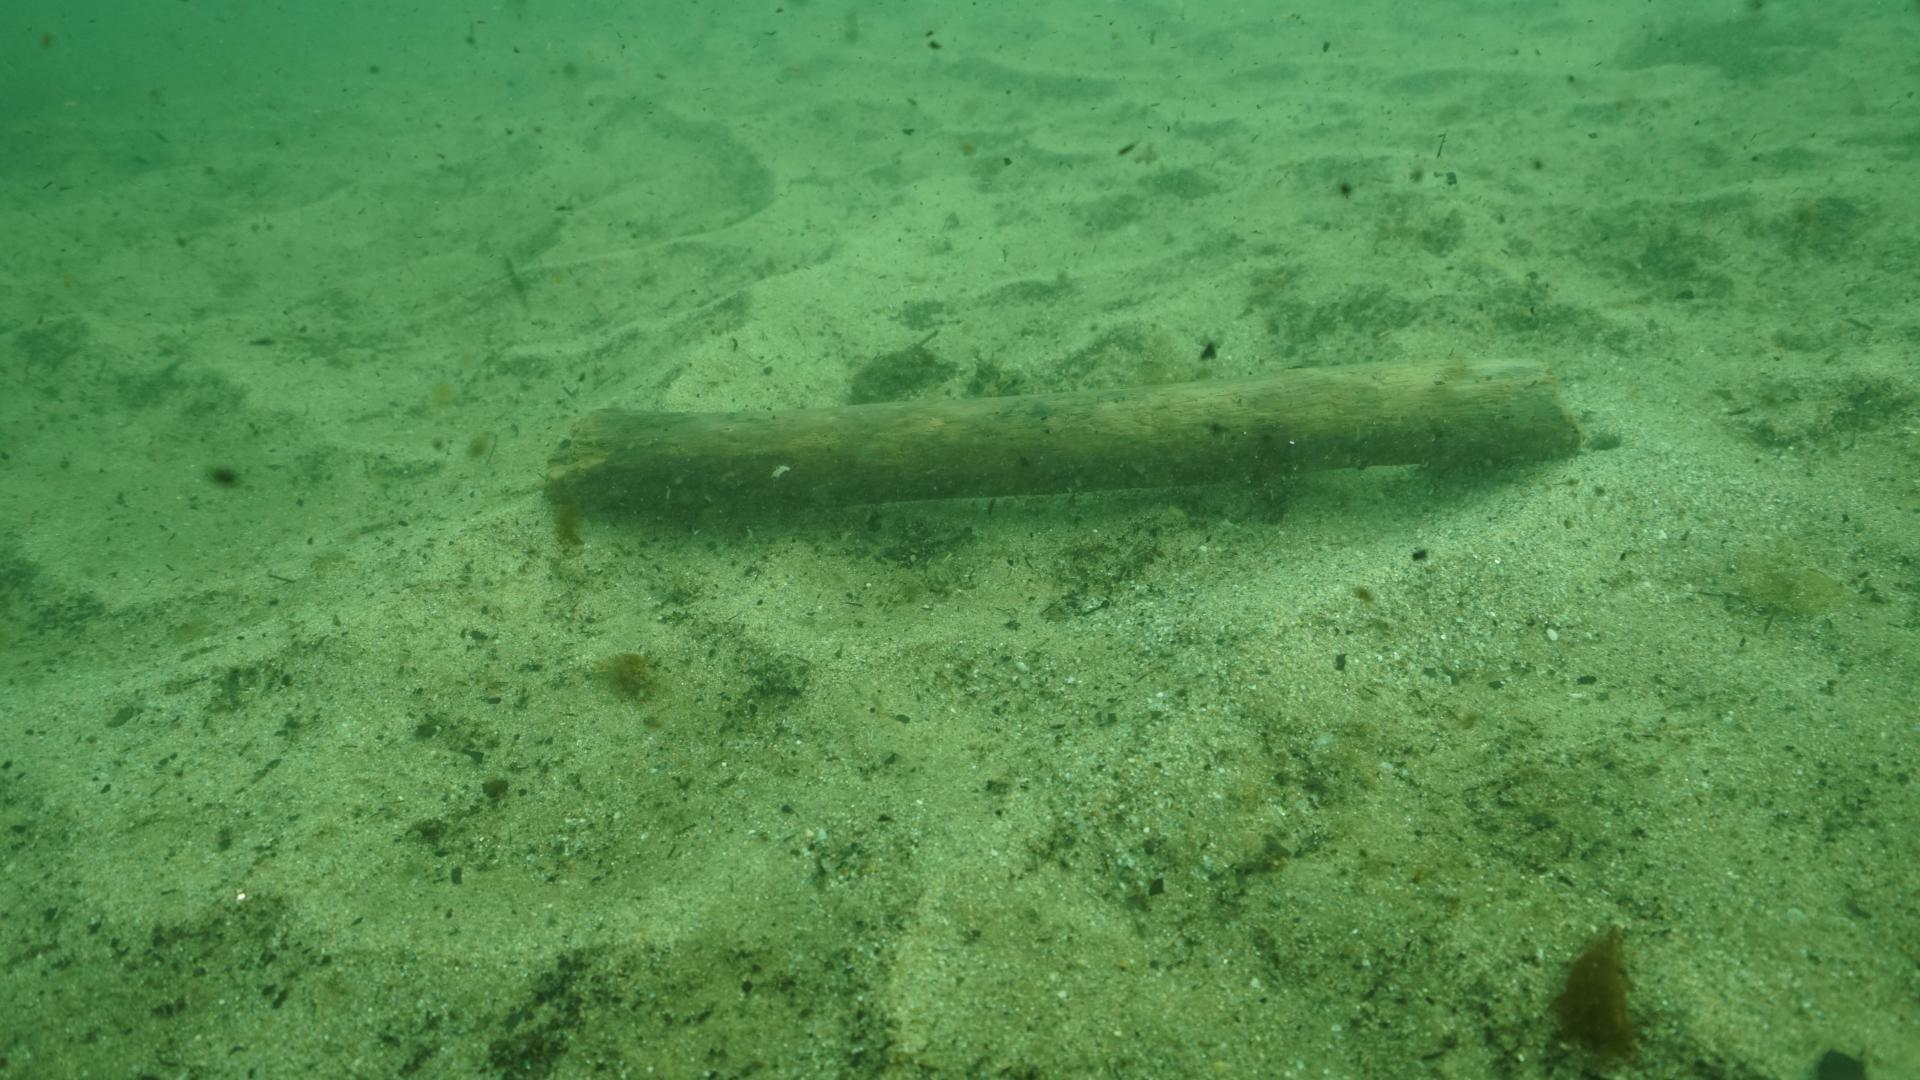wood: (541, 357, 1581, 513)
